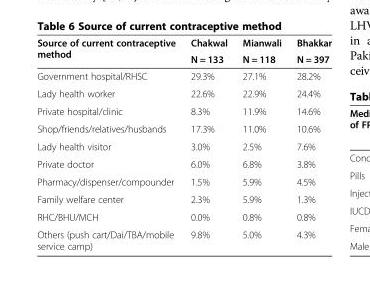table: (36, 36, 331, 251)
table column: (36, 36, 182, 251), (234, 36, 288, 251), (182, 36, 234, 251), (288, 36, 331, 251)
table column header: (36, 36, 331, 67)
table row: (36, 225, 331, 251), (36, 84, 331, 102), (36, 119, 331, 137), (36, 154, 331, 172), (36, 172, 331, 190), (36, 207, 331, 225), (36, 50, 331, 67), (36, 67, 331, 84), (36, 102, 331, 119), (36, 137, 331, 154), (36, 190, 331, 207), (36, 36, 331, 50)
table spanning cell: (36, 36, 182, 67), (234, 36, 288, 67), (182, 36, 234, 67), (288, 36, 331, 67)
